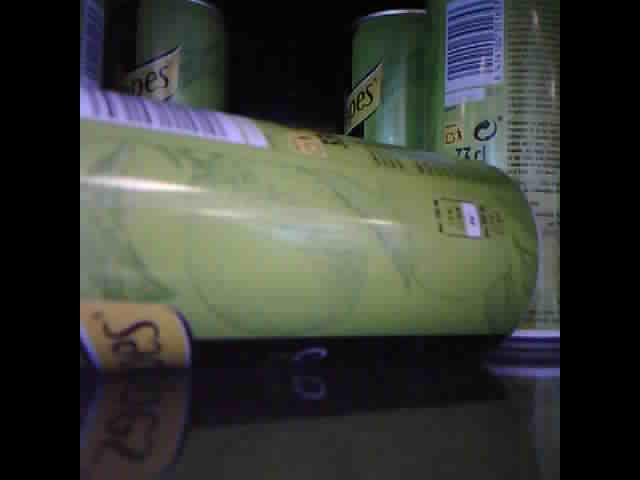schweppes: (80, 82, 539, 366), (430, 1, 558, 218), (127, 1, 244, 115), (351, 12, 431, 151)
